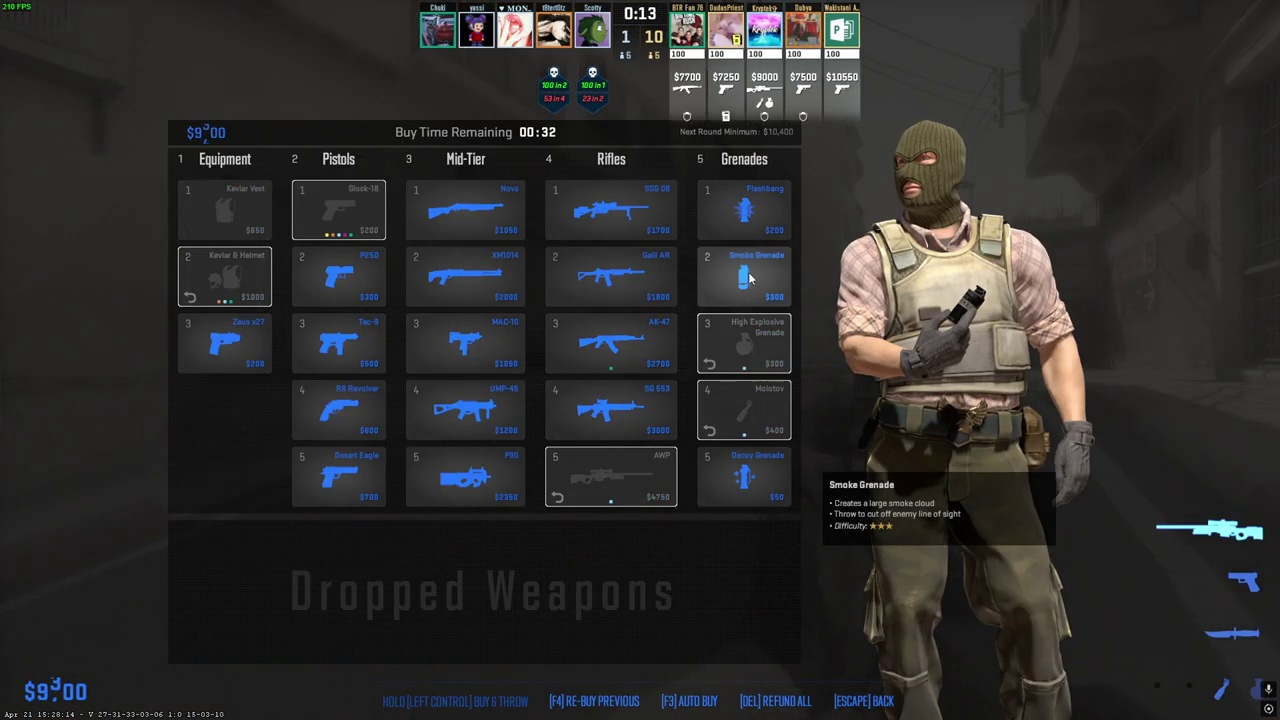Terrorist: (848, 121, 1077, 720)
